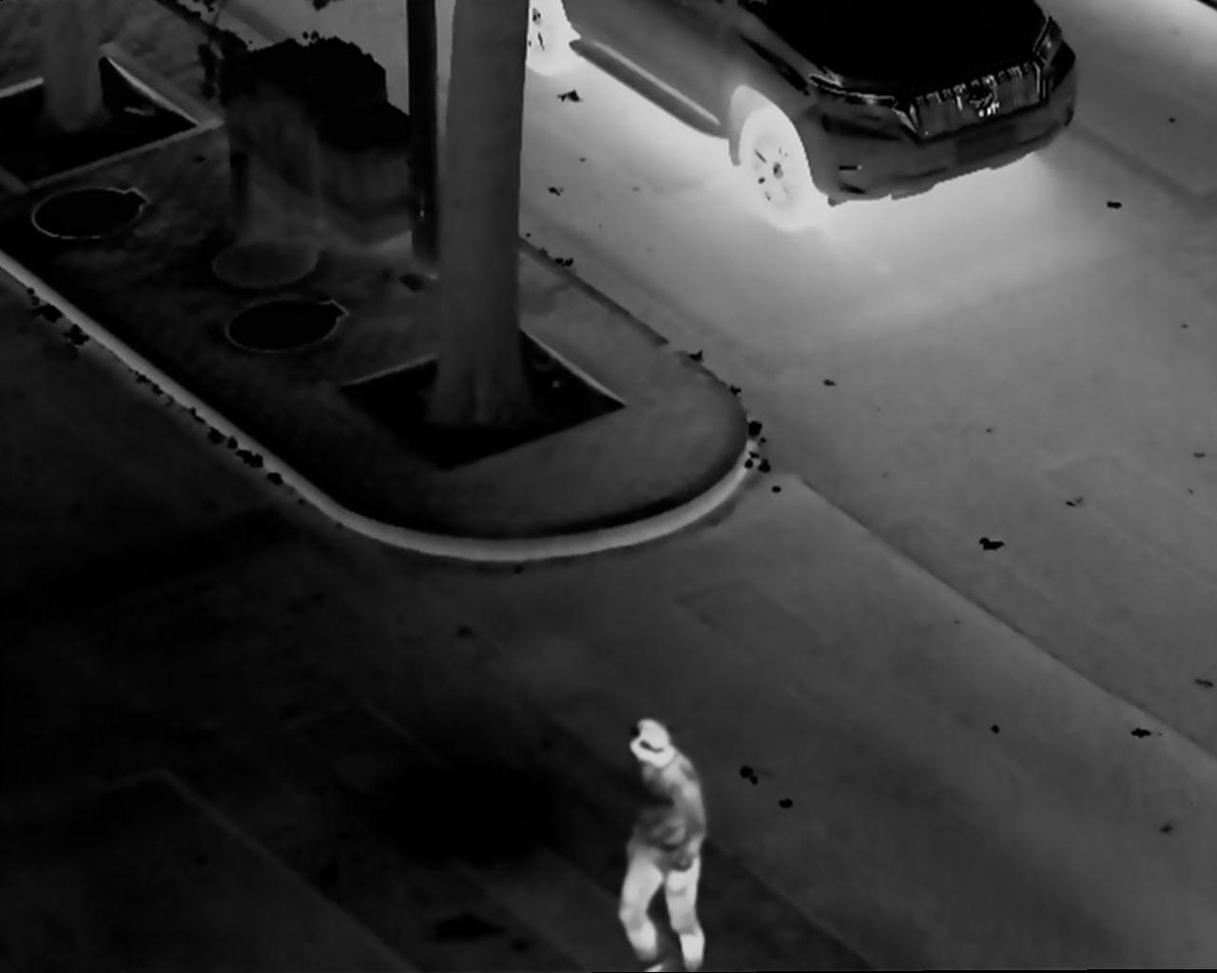person: (615, 711, 722, 973)
